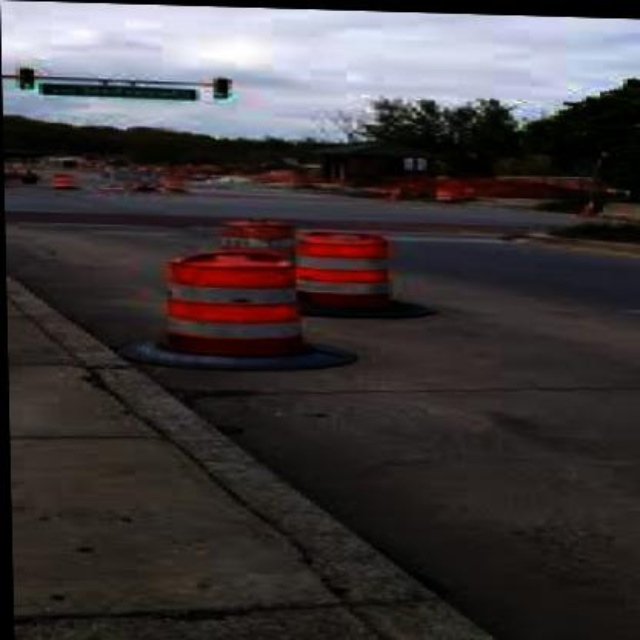obstacle: (142, 241, 310, 364), (289, 226, 438, 307)
